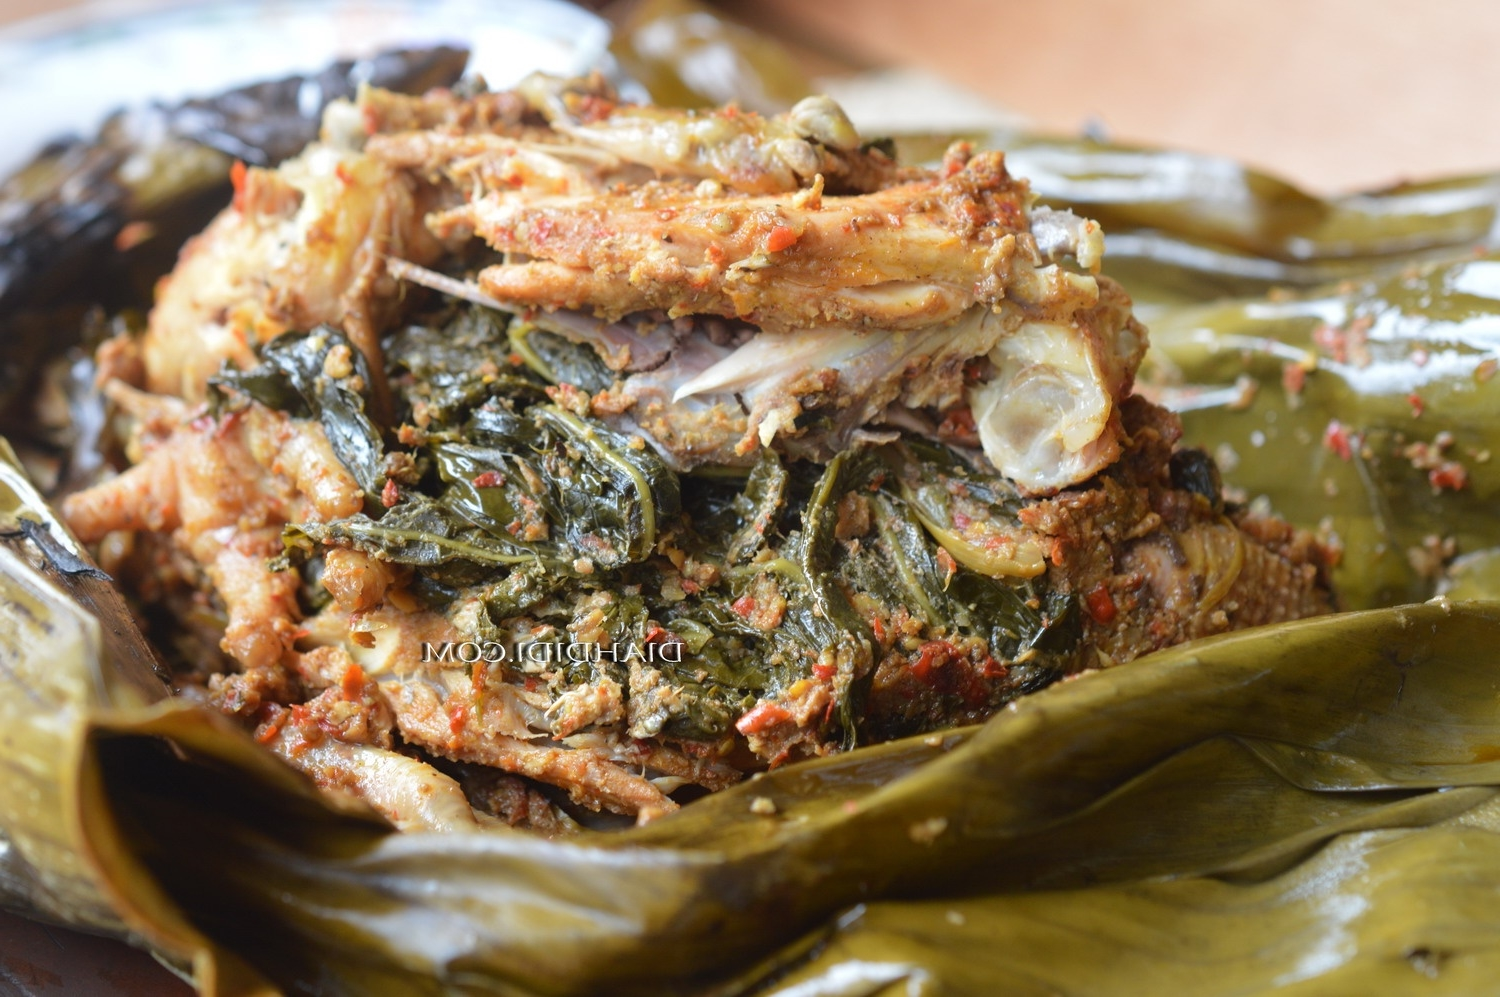ayam_betutu: (68, 81, 1336, 833)
